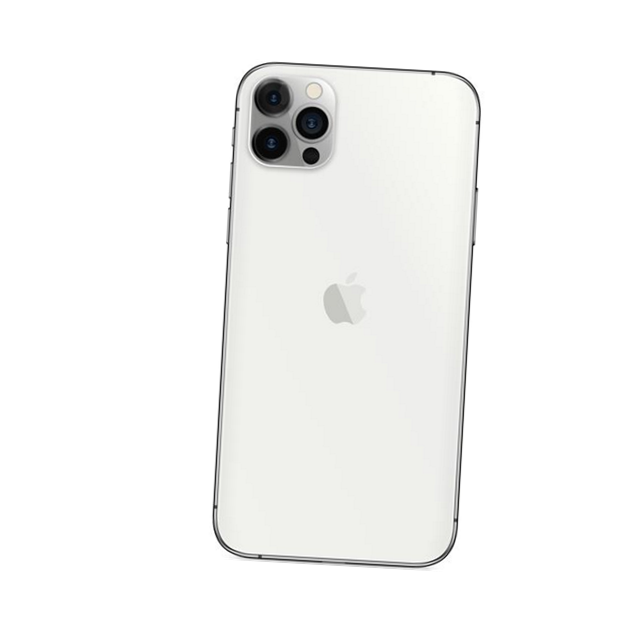iphone_12pro_silver: (207, 31, 503, 611), (243, 70, 344, 183)
